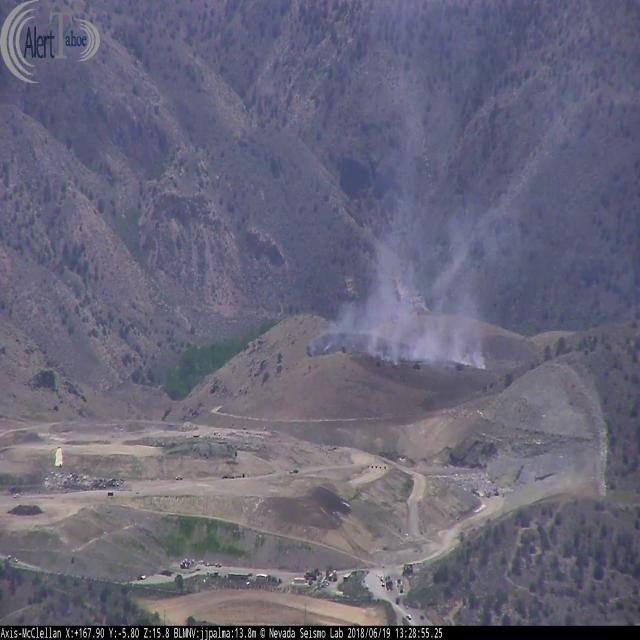smoke: (309, 86, 507, 368)
